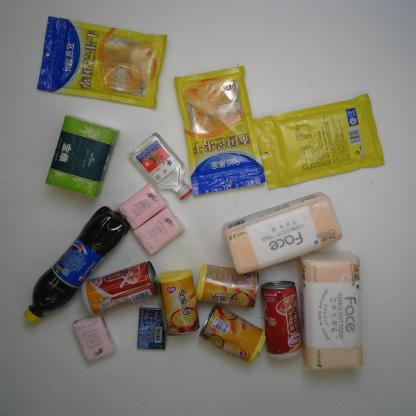Alcohol: (128, 132, 193, 200)
Canned Food: (78, 260, 160, 318), (199, 304, 268, 366), (260, 280, 303, 361), (155, 268, 200, 336), (196, 263, 259, 308)
Dried Fruit: (37, 15, 169, 110), (174, 65, 266, 197), (251, 93, 368, 191)
Drink: (23, 206, 131, 326)
Gum: (137, 304, 166, 350)
Tissue: (221, 191, 344, 275), (301, 251, 364, 371), (45, 114, 120, 198), (133, 206, 184, 255), (117, 182, 169, 230), (72, 314, 116, 363)
